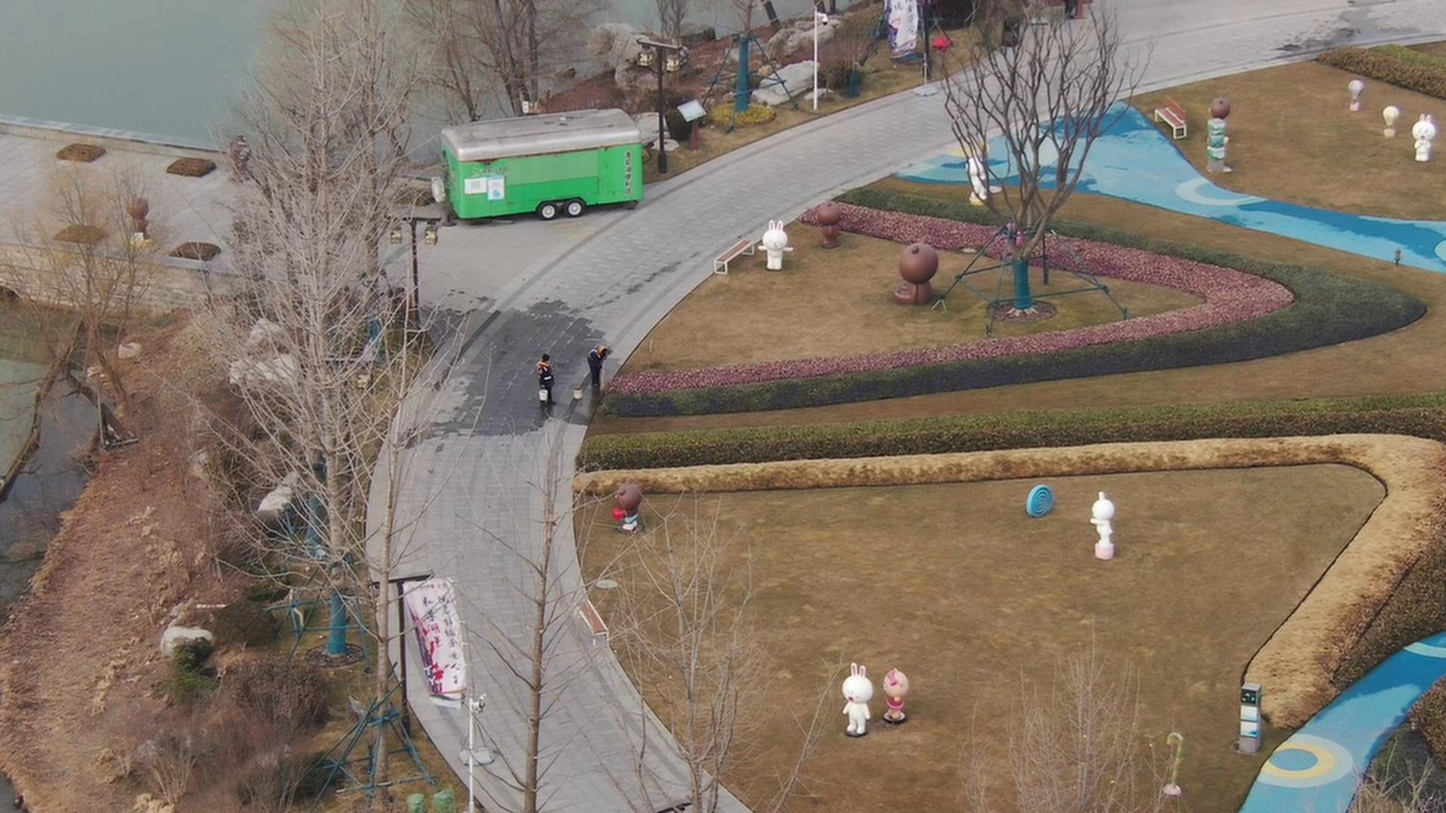human: (526, 346, 555, 402), (580, 339, 608, 387)
